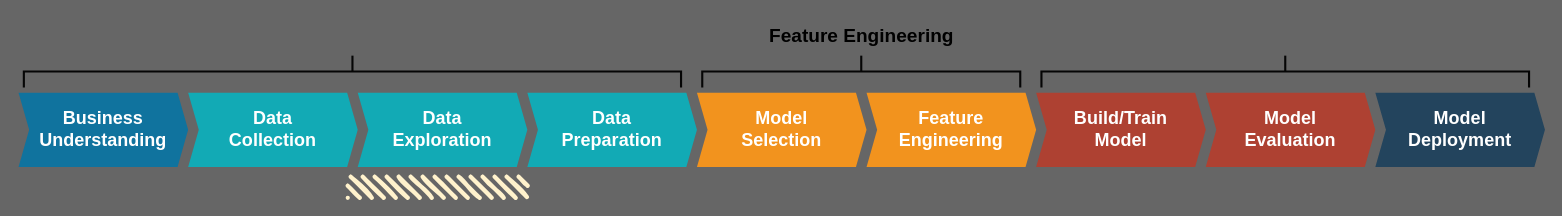
Some shapes in this 1562 by 216 pixel diagram are drawn without their labels. The shapes that lost their labels are listed below. From the top down, each one's centre as x and y in pixels, then its label:
At pixel 352 71: "Prediction Engineering".
At pixel 1285 71: "Modelling".
